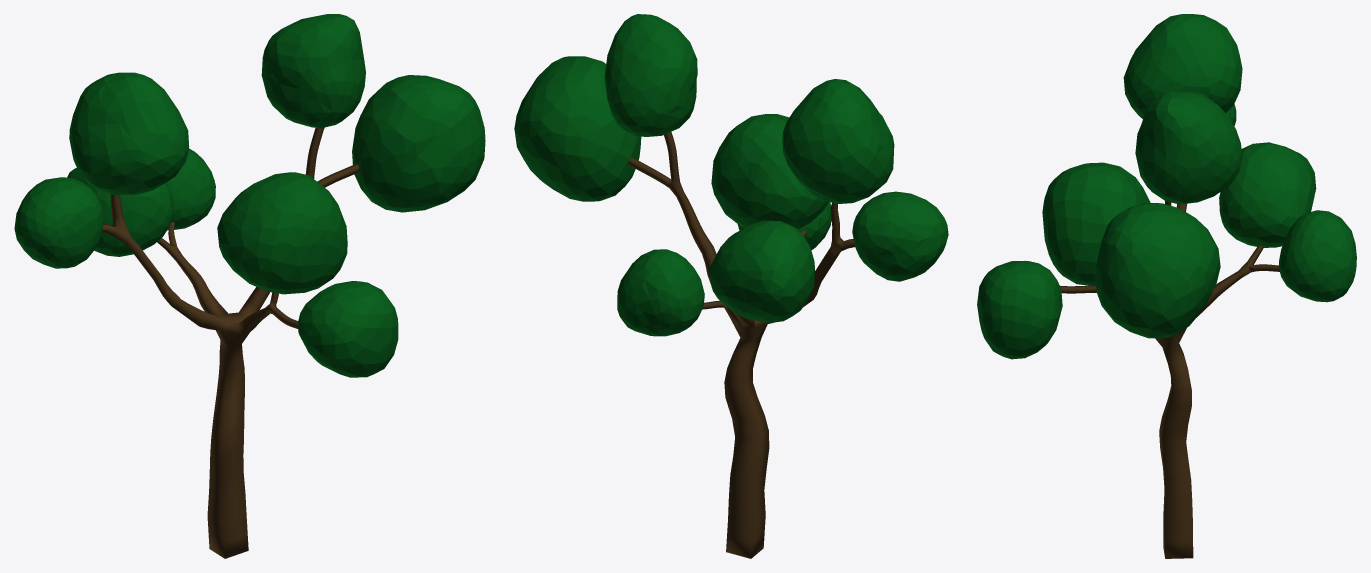
Rendered from tree.glb.
3 renders of one model, left to right at view 1: azimuth 30°, elevation 25°; view 2: azimuth 150°, elevation 25°; view 3: azimuth 270°, elevation 25°, orthographic.
Visible parts, largest first — view 1: Icosphere.004, Cube, Icosphere.005, Icosphere.001, Icosphere.003, Icosphere.006, Icosphere.002, Icosphere.008, Icosphere.007; view 2: Icosphere.004, Cube, Icosphere.001, Icosphere.003, Icosphere.008, Icosphere.005, Icosphere.002, Icosphere.007, Icosphere.006; view 3: Icosphere.004, Icosphere.003, Icosphere.001, Icosphere.005, Icosphere.008, Cube, Icosphere.006, Icosphere.007.
Boxes of the visible parts, left/top/right/bottom form: Icosphere.004: left=352, top=75, right=485, bottom=212; Cube: left=102, top=127, right=359, bottom=558; Icosphere.005: left=217, top=172, right=347, bottom=294; Icosphere.001: left=69, top=72, right=189, bottom=195; Icosphere.003: left=261, top=14, right=365, bottom=128; Icosphere.006: left=298, top=281, right=398, bottom=377; Icosphere.002: left=14, top=177, right=103, bottom=268; Icosphere.008: left=67, top=167, right=174, bottom=256; Icosphere.007: left=167, top=148, right=215, bottom=230; Icosphere.004: left=514, top=56, right=641, bottom=201; Cube: left=628, top=132, right=854, bottom=558; Icosphere.001: left=782, top=79, right=894, bottom=204; Icosphere.003: left=604, top=14, right=697, bottom=136; Icosphere.008: left=709, top=220, right=814, bottom=322; Icosphere.005: left=711, top=114, right=828, bottom=229; Icosphere.002: left=852, top=191, right=948, bottom=281; Icosphere.007: left=617, top=249, right=704, bottom=336; Icosphere.006: left=737, top=202, right=831, bottom=250; Icosphere.004: left=1095, top=202, right=1220, bottom=338; Icosphere.003: left=1135, top=91, right=1242, bottom=204; Icosphere.001: left=1123, top=14, right=1242, bottom=118; Icosphere.005: left=1042, top=162, right=1150, bottom=286; Icosphere.008: left=1219, top=142, right=1316, bottom=247; Cube: left=1060, top=201, right=1279, bottom=558; Icosphere.006: left=977, top=260, right=1062, bottom=359; Icosphere.007: left=1279, top=210, right=1356, bottom=302.
Bounding box in the file's own units: 12.59 × 14 × 9.53.
